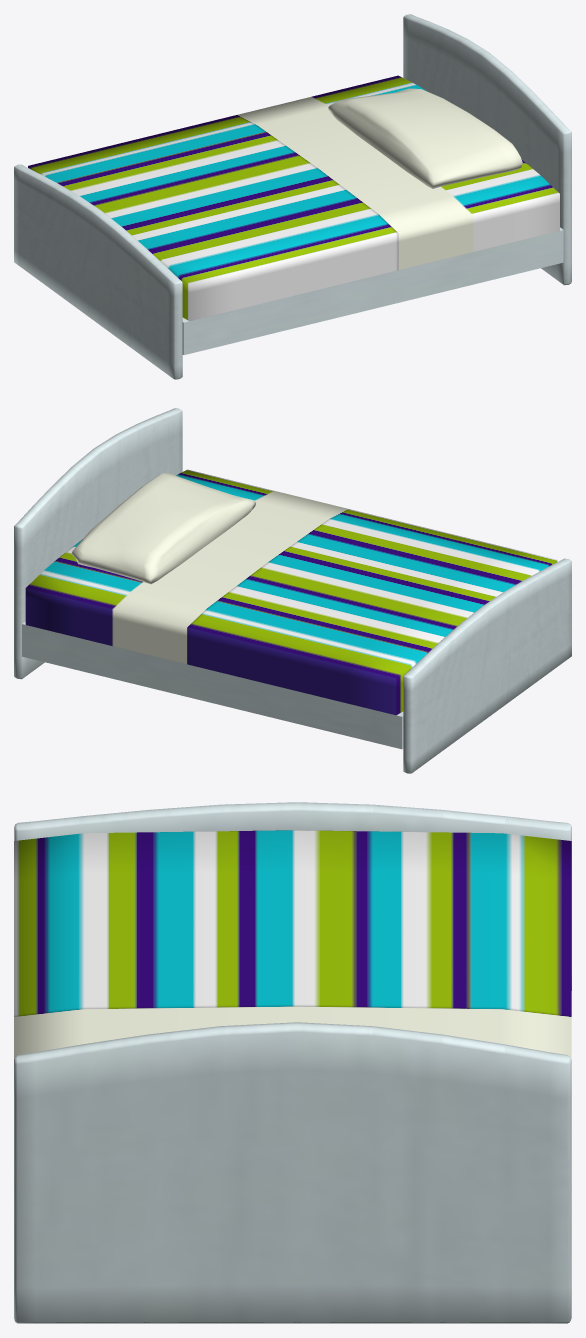
Rendered from cama.fbx.
3 renders of one model, top to bottom at view 1: azimuth 30°, elevation 25°; view 2: azimuth 150°, elevation 25°; view 3: azimuth 270°, elevation 25°, orthographic. The views are drawn at different scales.
Parts seen in each view (by area): view 1: polySurface1622; view 2: polySurface1622; view 3: polySurface1622.
Boxes of the visible parts, <box> form: polySurface1622: <box>14,14,571,379</box>; polySurface1622: <box>14,408,571,773</box>; polySurface1622: <box>14,802,571,1323</box>.
Bounding box in the file's own units: 9.21 × 3.81 × 6.47.
